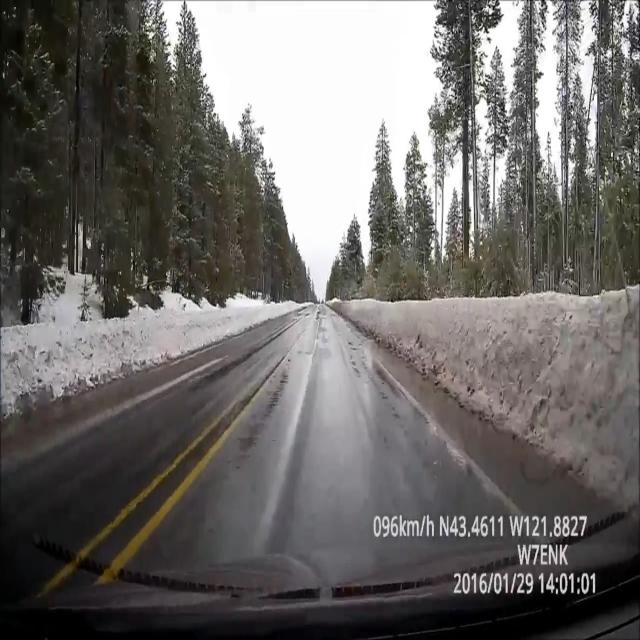Pothole: (345, 334, 363, 354)
